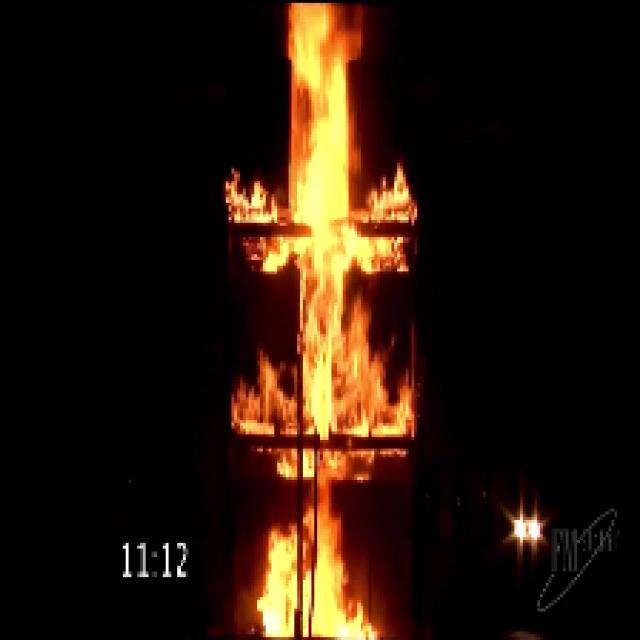fire: (273, 0, 380, 637)
